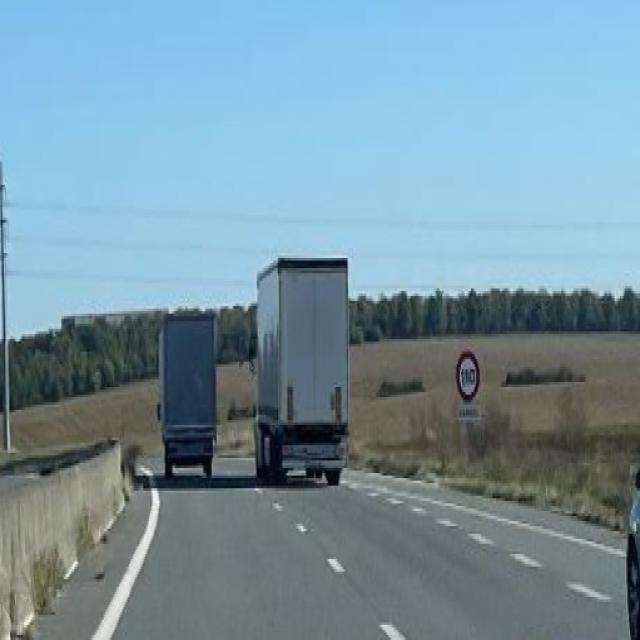speed_110: (455, 346, 481, 401)
